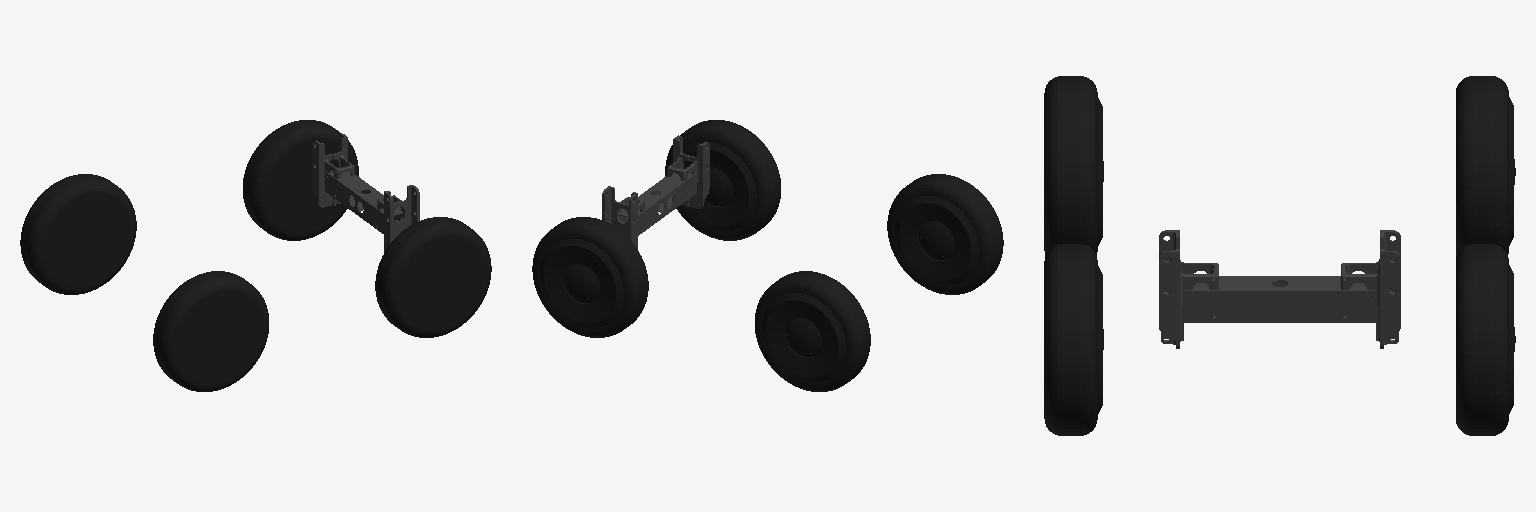
robot.urdf — coco_one:
<?xml version='1.0' encoding='utf-8'?>
<robot name="coco_one">
  <link name="base_link">
    <visual>
      <geometry>
        <mesh filename="meshes/base_link.obj" />
      </geometry>
      <material name="base_link_material">
        <color rgba="0.3 0.3 0.3 1.0" />
      </material>
    </visual>
    <collision>
      <geometry>
        <mesh filename="meshes/base_link.obj" />
      </geometry>
    </collision>
    <inertial>
      <mass value="1.0" />
      <inertia ixx="0.01" ixy="0" ixz="0" iyy="0.01" iyz="0" izz="0.01" />
    </inertial>
  </link>
  <link name="body_link">
    <!-- Textured mesh recovered from coco-gradient.glb (replaces flat-color OBJ) -->
    <visual>
      <origin xyz="-0.4 0 0.05" rpy="0 3.141593 1.570796" />
      <geometry>
        <mesh filename="meshes/Back_Graphic.obj" scale="0.09286185 0.09286185 0.09286185" />
      </geometry>
    </visual>
    <collision>
      <geometry>
        <mesh filename="meshes/body_link.obj" />
      </geometry>
    </collision>
    <inertial>
      <mass value="1.0" />
      <inertia ixx="0.01" ixy="0" ixz="0" iyy="0.01" iyz="0" izz="0.01" />
    </inertial>
  </link>
  <link name="front_axle_link">
    <visual>
      <geometry>
        <mesh filename="meshes/front_axle_link.obj" />
      </geometry>
      <material name="front_axle_link_material">
        <color rgba="0.3 0.3 0.3 1.0" />
      </material>
    </visual>
    <collision>
      <geometry>
        <mesh filename="meshes/front_axle_link.obj" />
      </geometry>
    </collision>
    <inertial>
      <mass value="1.0" />
      <inertia ixx="0.01" ixy="0" ixz="0" iyy="0.01" iyz="0" izz="0.01" />
    </inertial>
  </link>
  <link name="rear_axle_link">
    <inertial>
      <mass value="1.0" />
      <inertia ixx="0.01" ixy="0" ixz="0" iyy="0.01" iyz="0" izz="0.01" />
    </inertial>
  </link>
  <link name="front_left_shock_link">
    <inertial>
      <mass value="1.0" />
      <inertia ixx="0.01" ixy="0" ixz="0" iyy="0.01" iyz="0" izz="0.01" />
    </inertial>
  </link>
  <link name="front_right_shock_link">
    <inertial>
      <mass value="1.0" />
      <inertia ixx="0.01" ixy="0" ixz="0" iyy="0.01" iyz="0" izz="0.01" />
    </inertial>
  </link>
  <link name="rear_left_shock_link">
    <inertial>
      <mass value="1.0" />
      <inertia ixx="0.01" ixy="0" ixz="0" iyy="0.01" iyz="0" izz="0.01" />
    </inertial>
  </link>
  <link name="rear_right_shock_link">
    <inertial>
      <mass value="1.0" />
      <inertia ixx="0.01" ixy="0" ixz="0" iyy="0.01" iyz="0" izz="0.01" />
    </inertial>
  </link>
  <link name="front_left_wheel_link">
    <visual>
      <origin xyz="0 0 0" rpy="0 0 1.5707963267948966" />
      <geometry>
        <mesh filename="meshes/front_left_wheel_link.obj" />
      </geometry>
      <material name="front_left_wheel_link_material">
        <color rgba="0.15 0.15 0.15 1.0" />
      </material>
    </visual>
    <collision>
      <origin xyz="0 0 0" rpy="0 0 1.5707963267948966" />
      <geometry>
        <mesh filename="meshes/front_left_wheel_link.obj" />
      </geometry>
    </collision>
    <inertial>
      <mass value="1.0" />
      <inertia ixx="0.01" ixy="0" ixz="0" iyy="0.01" iyz="0" izz="0.01" />
    </inertial>
  </link>
  <link name="front_right_wheel_link">
    <visual>
      <origin xyz="0 0 0" rpy="0 0 1.5707963267948966" />
      <geometry>
        <mesh filename="meshes/front_right_wheel_link.obj" />
      </geometry>
      <material name="front_right_wheel_link_material">
        <color rgba="0.15 0.15 0.15 1.0" />
      </material>
    </visual>
    <collision>
      <origin xyz="0 0 0" rpy="0 0 1.5707963267948966" />
      <geometry>
        <mesh filename="meshes/front_right_wheel_link.obj" />
      </geometry>
    </collision>
    <inertial>
      <mass value="1.0" />
      <inertia ixx="0.01" ixy="0" ixz="0" iyy="0.01" iyz="0" izz="0.01" />
    </inertial>
  </link>
  <link name="rear_left_wheel_link">
    <visual>
      <origin xyz="0 0 0" rpy="0 0 1.5707963267948966" />
      <geometry>
        <mesh filename="meshes/rear_left_wheel_link.obj" />
      </geometry>
      <material name="rear_left_wheel_link_material">
        <color rgba="0.15 0.15 0.15 1.0" />
      </material>
    </visual>
    <collision>
      <origin xyz="0 0 0" rpy="0 0 1.5707963267948966" />
      <geometry>
        <mesh filename="meshes/rear_left_wheel_link.obj" />
      </geometry>
    </collision>
    <inertial>
      <mass value="1.0" />
      <inertia ixx="0.01" ixy="0" ixz="0" iyy="0.01" iyz="0" izz="0.01" />
    </inertial>
  </link>
  <link name="rear_right_wheel_link">
    <visual>
      <origin xyz="0 0 0" rpy="0 0 1.5707963267948966" />
      <geometry>
        <mesh filename="meshes/rear_right_wheel_link.obj" />
      </geometry>
      <material name="rear_right_wheel_link_material">
        <color rgba="0.15 0.15 0.15 1.0" />
      </material>
    </visual>
    <collision>
      <origin xyz="0 0 0" rpy="0 0 1.5707963267948966" />
      <geometry>
        <mesh filename="meshes/rear_right_wheel_link.obj" />
      </geometry>
    </collision>
    <inertial>
      <mass value="1.0" />
      <inertia ixx="0.01" ixy="0" ixz="0" iyy="0.01" iyz="0" izz="0.01" />
    </inertial>
  </link>
  <joint name="body_to_base_joint" type="fixed">
    <parent link="base_link" />
    <child link="body_link" />
    <origin xyz="0 0 0" rpy="0 0 0" />
    <axis xyz="0 0 1" />
  </joint>
  <joint name="base_to_front_axle_joint" type="revolute">
    <parent link="base_link" />
    <child link="front_axle_link" />
    <origin xyz="0.22100000083446503 0.0 -0.0949999988079071" rpy="0 0 0" />
    <axis xyz="0 0 1" />
    <limit lower="-0.3490658503988659" upper="0.3490658503988659" effort="100" velocity="10" />
  </joint>
  <joint name="base_to_rear_axle_joint" type="fixed">
    <parent link="base_link" />
    <child link="rear_axle_link" />
    <origin xyz="-0.23499999940395355 0.0 -0.0949999988079071" rpy="0 0 0" />
    <axis xyz="0 0 1" />
  </joint>
  <joint name="front_left_shock_joint" type="fixed">
    <parent link="front_axle_link" />
    <child link="front_left_shock_link" />
    <origin xyz="0.0 0.23600000143051147 -0.07100000977516174" rpy="0 0 0" />
    <axis xyz="0 0 1" />
  </joint>
  <joint name="front_right_shock_joint" type="fixed">
    <parent link="front_axle_link" />
    <child link="front_right_shock_link" />
    <origin xyz="0.0 -0.23600000143051147 -0.07100000977516174" rpy="0 0 0" />
    <axis xyz="0 0 1" />
  </joint>
  <joint name="rear_left_shock_joint" type="fixed">
    <parent link="rear_axle_link" />
    <child link="rear_left_shock_link" />
    <origin xyz="0.0 0.23600000143051147 -0.07100000977516174" rpy="0 0 0" />
    <axis xyz="0 0 1" />
  </joint>
  <joint name="rear_right_shock_joint" type="fixed">
    <parent link="rear_axle_link" />
    <child link="rear_right_shock_link" />
    <origin xyz="0.0 -0.23600000143051147 -0.07100000977516174" rpy="0 0 0" />
    <axis xyz="0 0 1" />
  </joint>
  <joint name="front_left_wheel_joint" type="continuous">
    <parent link="front_left_shock_link" />
    <child link="front_left_wheel_link" />
    <origin xyz="0 0 0" rpy="0 0 0" />
    <axis xyz="0 1 0" />
  </joint>
  <joint name="front_right_wheel_joint" type="continuous">
    <parent link="front_right_shock_link" />
    <child link="front_right_wheel_link" />
    <origin xyz="0 0 0" rpy="0 0 0" />
    <axis xyz="0 1 0" />
  </joint>
  <joint name="rear_left_wheel_joint" type="continuous">
    <parent link="rear_left_shock_link" />
    <child link="rear_left_wheel_link" />
    <origin xyz="0 0 0" rpy="0 0 0" />
    <axis xyz="0 1 0" />
  </joint>
  <joint name="rear_right_wheel_joint" type="continuous">
    <parent link="rear_right_shock_link" />
    <child link="rear_right_wheel_link" />
    <origin xyz="0 0 0" rpy="0 0 0" />
    <axis xyz="0 1 0" />
  </joint>
</robot>

--- What the picture shows (computed from the rendered views, not written in the file) ---
3 views of the same robot in one strip: view 1: azimuth 30°, elevation 25°; view 2: azimuth 150°, elevation 25°; view 3: azimuth 270°, elevation 25° (orthographic).
Robot: coco_one — 12 links, 11 joints (1 revolute, 4 continuous, 6 fixed); root link base_link; default pose: all joints at 0.
Visible links, largest first — view 1: front_right_wheel_link, rear_left_wheel_link, rear_right_wheel_link, front_left_wheel_link, front_axle_link; view 2: front_left_wheel_link, rear_right_wheel_link, rear_left_wheel_link, front_right_wheel_link, front_axle_link; view 3: front_axle_link, front_right_wheel_link, front_left_wheel_link, rear_right_wheel_link, rear_left_wheel_link.
Boxes of the visible links, x1=… form: front_right_wheel_link: x1=375, y1=217, x2=491, y2=337; rear_left_wheel_link: x1=20, y1=174, x2=136, y2=294; rear_right_wheel_link: x1=153, y1=271, x2=268, y2=391; front_left_wheel_link: x1=243, y1=120, x2=358, y2=240; front_axle_link: x1=312, y1=134, x2=419, y2=252; front_left_wheel_link: x1=532, y1=217, x2=648, y2=337; rear_right_wheel_link: x1=887, y1=174, x2=1003, y2=294; rear_left_wheel_link: x1=755, y1=271, x2=870, y2=391; front_right_wheel_link: x1=665, y1=120, x2=780, y2=240; front_axle_link: x1=602, y1=135, x2=709, y2=248; front_axle_link: x1=1159, y1=230, x2=1400, y2=348; front_right_wheel_link: x1=1044, y1=244, x2=1103, y2=435; front_left_wheel_link: x1=1456, y1=244, x2=1515, y2=435; rear_right_wheel_link: x1=1044, y1=76, x2=1103, y2=255; rear_left_wheel_link: x1=1456, y1=76, x2=1515, y2=255.
Bounding box of the posed robot: 0.6763 × 0.5406 × 0.2352 m (x, y, z).
Meshes: 7 distinct files referenced, 5 mesh visuals loaded (5 OBJ); not drawn: 2 (file found but could not be loaded).
